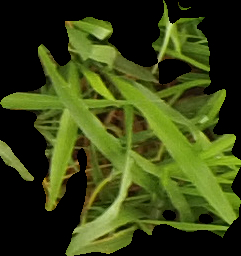grass: (1, 1, 239, 254)
